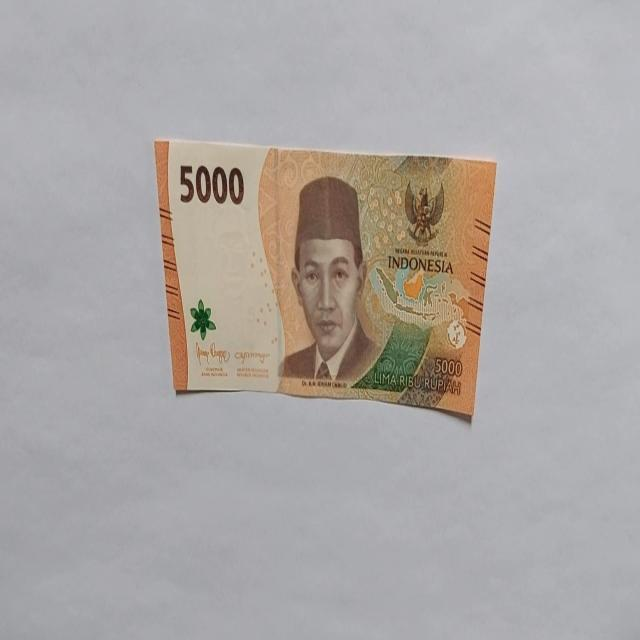lima ribu rupiah: (153, 140, 498, 426), (278, 174, 380, 386)
